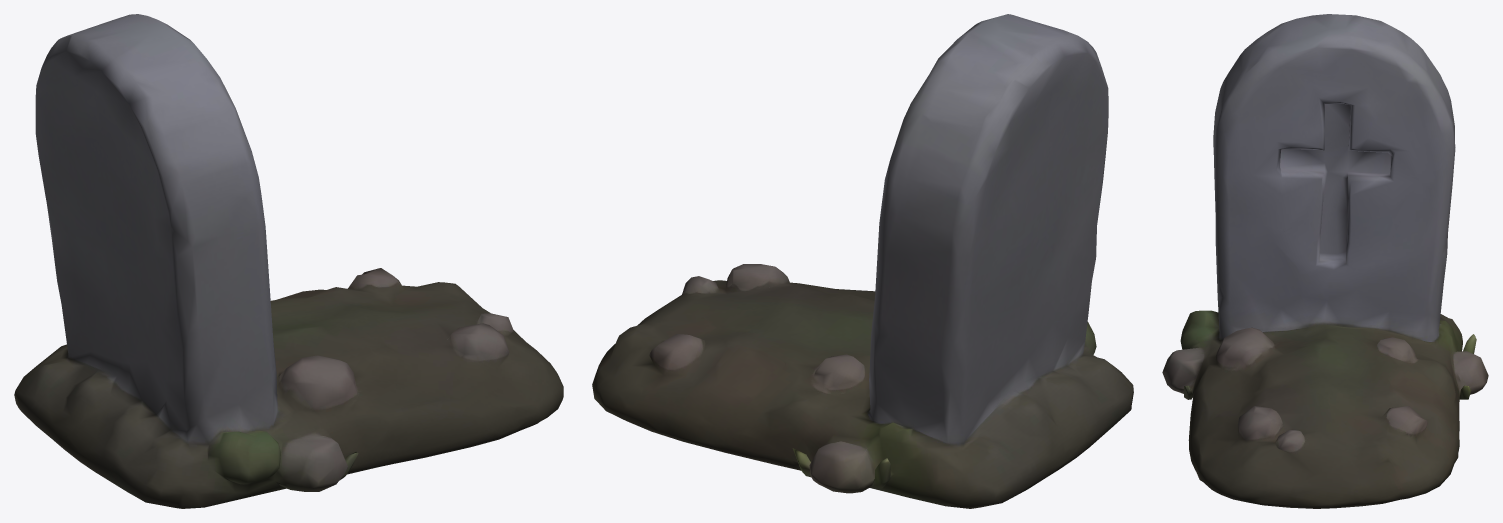
The model's file is pro_grave-CME-BPyv.glb.
3 renders of one model, left to right at view 1: azimuth 30°, elevation 25°; view 2: azimuth 150°, elevation 25°; view 3: azimuth 270°, elevation 25°, orthographic. The views are drawn at different scales.
Visible parts, largest first — view 1: tripo_node_ef965ff1-88e7-4c05-bb57-f800ccb714e2; view 2: tripo_node_ef965ff1-88e7-4c05-bb57-f800ccb714e2; view 3: tripo_node_ef965ff1-88e7-4c05-bb57-f800ccb714e2.
Part boxes in pixels (bbox=[...]): tripo_node_ef965ff1-88e7-4c05-bb57-f800ccb714e2: bbox=[14, 14, 563, 508]; tripo_node_ef965ff1-88e7-4c05-bb57-f800ccb714e2: bbox=[592, 14, 1133, 508]; tripo_node_ef965ff1-88e7-4c05-bb57-f800ccb714e2: bbox=[1162, 14, 1488, 508].
Size of the model in its own units: 1 by 0.8857 by 0.7747.
Materials: 1 (1 with a texture image).
